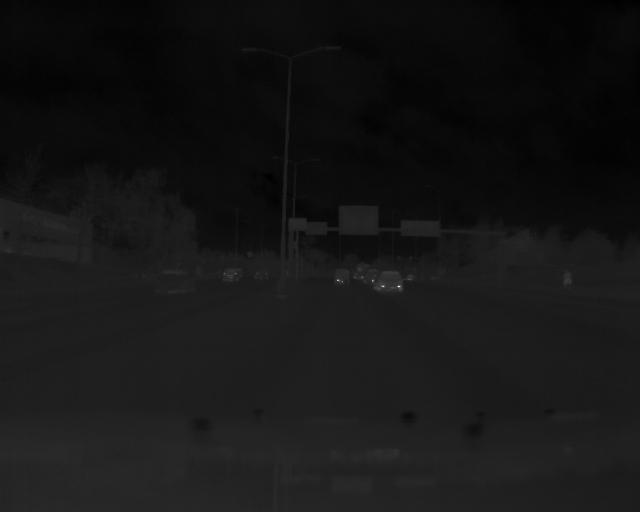car: (372, 270, 407, 295), (330, 265, 354, 289)
